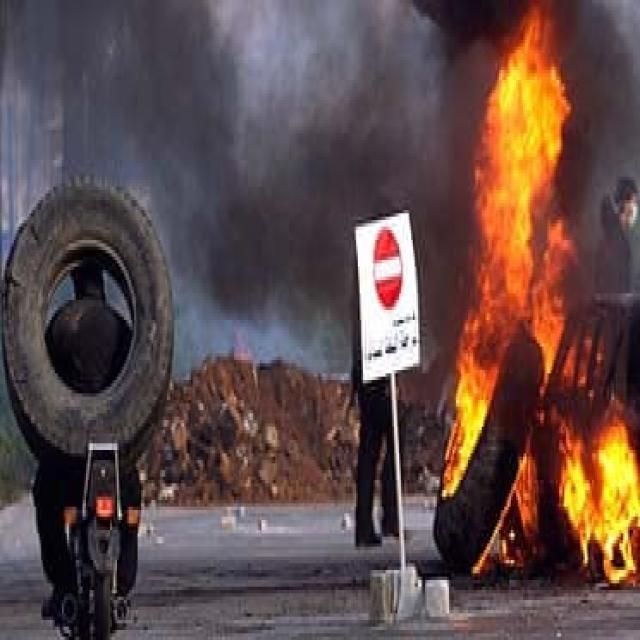fire: (475, 1, 571, 339), (441, 309, 510, 499), (598, 418, 640, 586), (559, 426, 598, 566), (515, 453, 538, 535), (537, 336, 563, 395)
